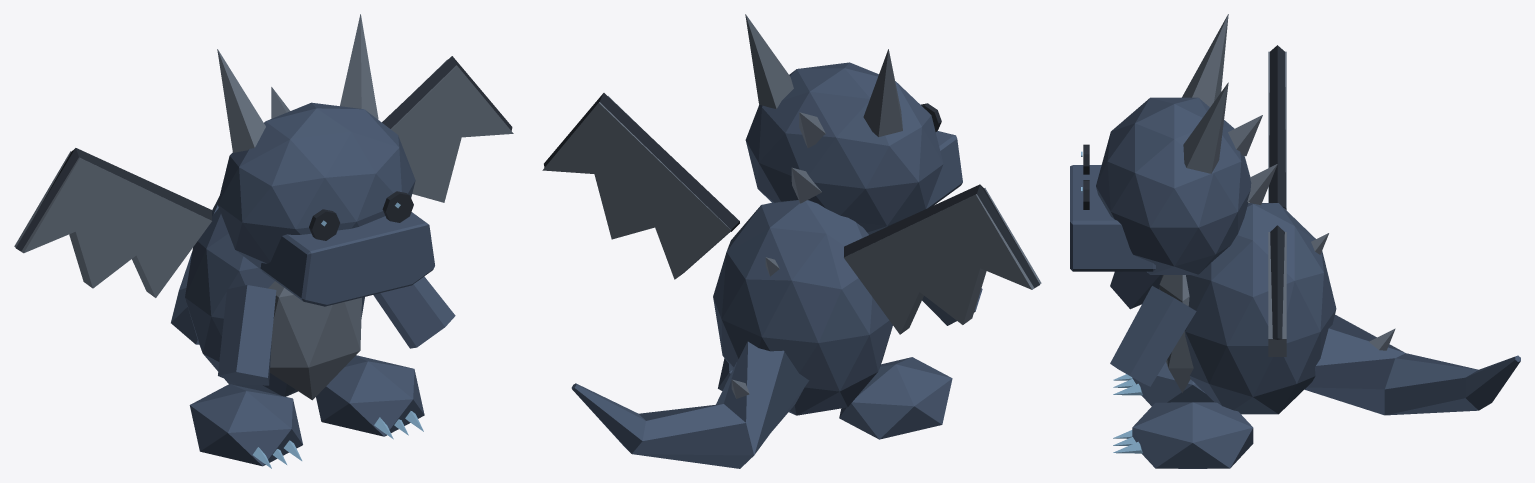
3 renders of one model, left to right at view 1: azimuth 30°, elevation 25°; view 2: azimuth 150°, elevation 25°; view 3: azimuth 270°, elevation 25°, orthographic. The views are drawn at different scales.
Parts seen in each view (by area): view 1: Cabeça, Asa geométrica, Focinho angular, Asa geométrica.001, Placa do peito, Pé, Corpo, Pé.001, Braço, Braço.001, Borda da asa, Chifre (+5 smaller); view 2: Corpo, Cabeça, Asa geométrica, Cauda, Asa geométrica.001, Pé, Borda da asa.001, Borda da asa, Chifre.001, Chifre, Focinho angular, Espinho dorsal.001 (+1 smaller); view 3: Corpo, Cabeça, Cauda, Pé.001, Focinho angular, Braço.001, Borda da asa, Chifre.001, Chifre, Placa do peito, Pé, Borda da asa.001 (+5 smaller).
Part boxes in pixels (bbox=[...]): Cabeça: bbox=[217, 102, 415, 269]; Asa geométrica: bbox=[14, 151, 211, 297]; Focinho angular: bbox=[260, 212, 434, 306]; Asa geométrica.001: bbox=[391, 59, 513, 202]; Placa do peito: bbox=[268, 281, 361, 400]; Pé: bbox=[189, 384, 302, 466]; Corpo: bbox=[185, 208, 364, 396]; Pé.001: bbox=[316, 355, 424, 436]; Braço: bbox=[218, 285, 276, 385]; Braço.001: bbox=[373, 276, 455, 348]; Borda da asa: bbox=[16, 148, 211, 251]; Chifre: bbox=[217, 49, 265, 152]; Corpo: bbox=[713, 200, 892, 415]; Cabeça: bbox=[745, 62, 943, 234]; Asa geométrica: bbox=[844, 188, 1041, 334]; Cauda: bbox=[571, 341, 809, 468]; Asa geométrica.001: bbox=[542, 96, 730, 279]; Pé: bbox=[839, 357, 952, 439]; Borda da asa.001: bbox=[544, 93, 739, 231]; Borda da asa: bbox=[844, 184, 1039, 288]; Chifre.001: bbox=[745, 14, 793, 108]; Chifre: bbox=[863, 49, 902, 137]; Focinho angular: bbox=[926, 131, 962, 208]; Espinho dorsal.001: bbox=[791, 167, 821, 203]; Corpo: bbox=[1184, 203, 1336, 414]; Cabeça: bbox=[1096, 97, 1251, 274]; Cauda: bbox=[1304, 314, 1520, 415]; Pé.001: bbox=[1132, 402, 1253, 468]; Focinho angular: bbox=[1070, 165, 1155, 271]; Braço.001: bbox=[1110, 286, 1196, 386]; Borda da asa: bbox=[1269, 45, 1285, 208]; Chifre.001: bbox=[1183, 82, 1228, 173]; Chifre: bbox=[1182, 14, 1228, 107]; Placa do peito: bbox=[1159, 275, 1193, 392]; Pé: bbox=[1132, 362, 1214, 406]; Borda da asa.001: bbox=[1270, 225, 1284, 339].
Size of the model in its own units: 2.29 by 1.76 by 1.84.
